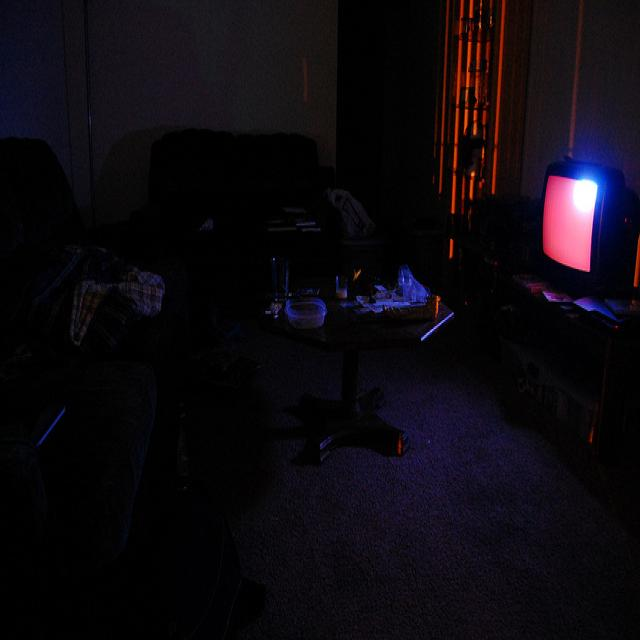Table: (179, 245, 476, 474)
chair: (86, 99, 365, 290), (0, 112, 88, 440)
